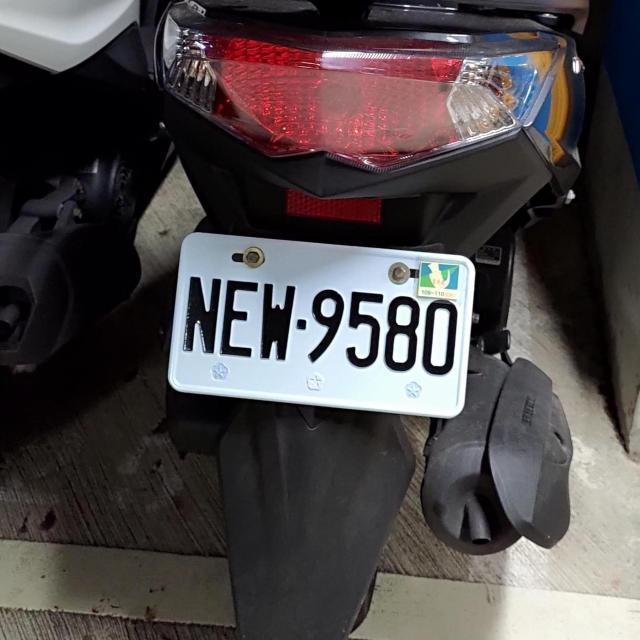W: (164, 232, 480, 415)
